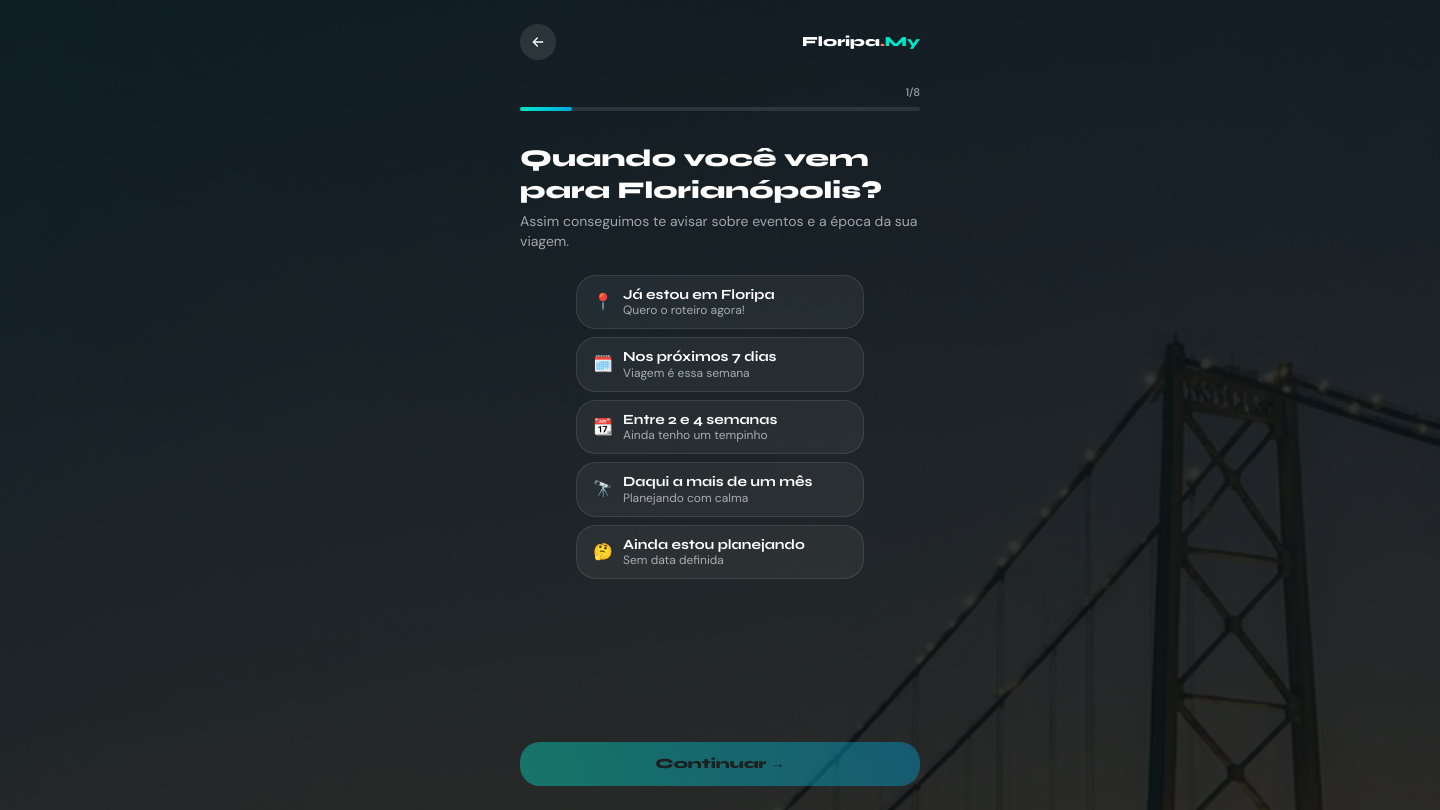
QuizPage › auto-advances to the next question after selecting a single-choice answer, without needing Continuar
The image size is (1440, 810).
What coordinates should you click on to do the following:
click the button "📍 Já estou em Floripa Quero o roteiro agora!"
I would click on:
 (720, 302)
Its box is [576,274,864,329].
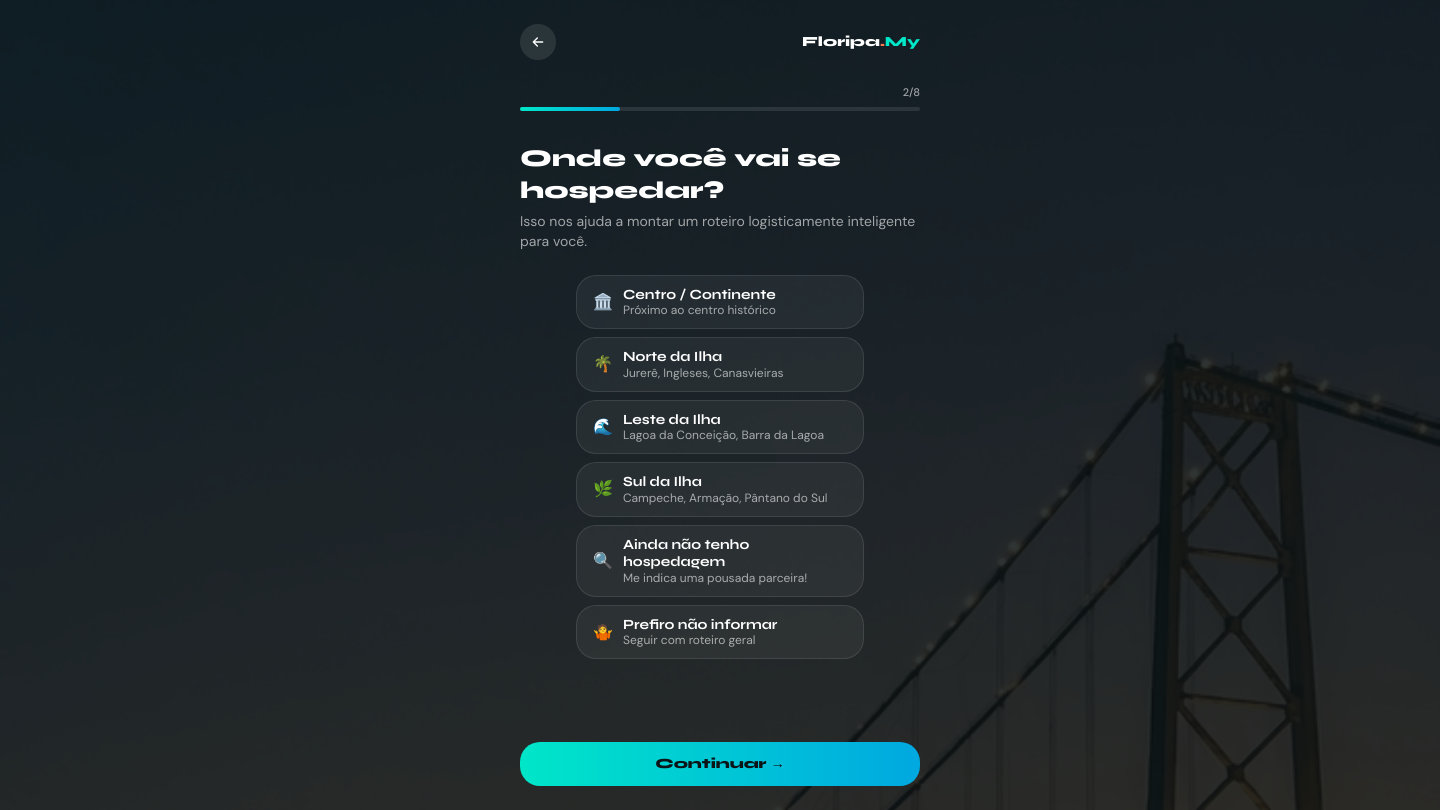
Check: the heading "Onde você vai se hospedar?" is shown, box [520,144,841,204]
